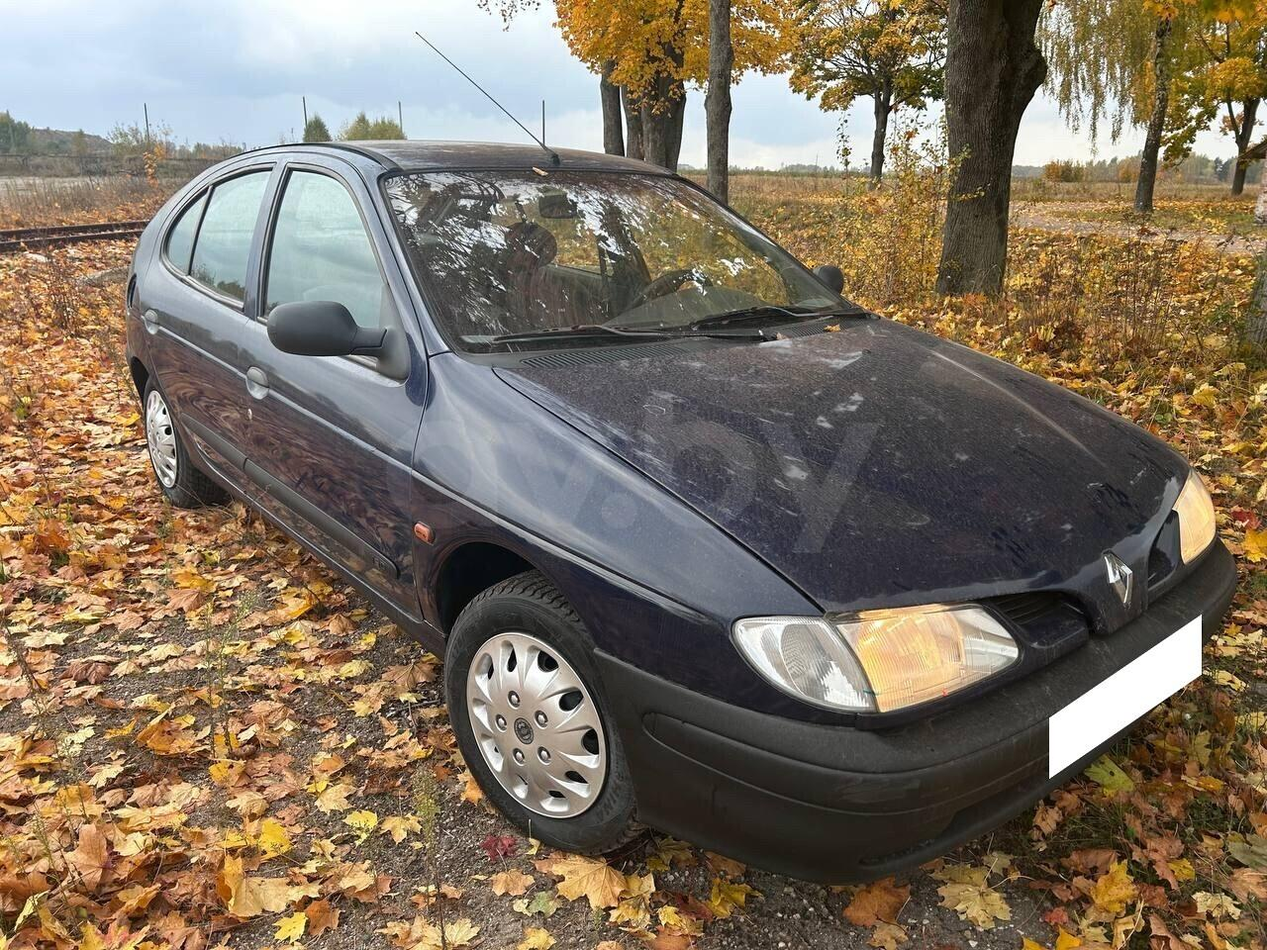Megane_1995-1999: (119, 140, 1239, 866)
